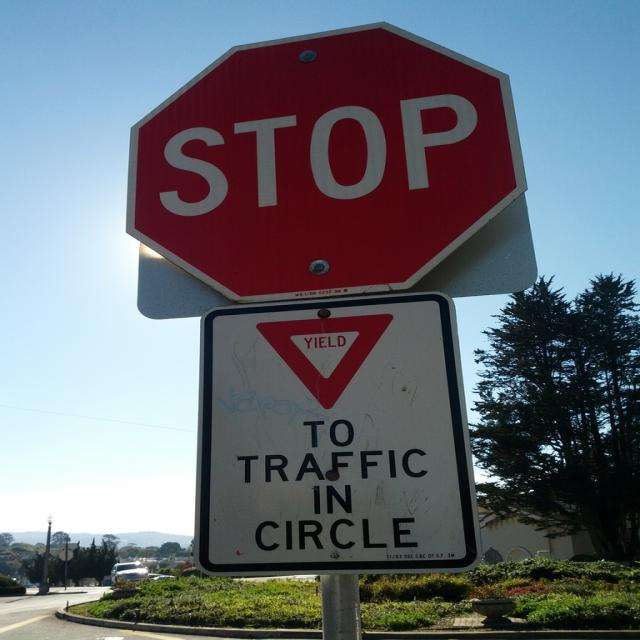Stop-sign: (124, 19, 530, 304)
